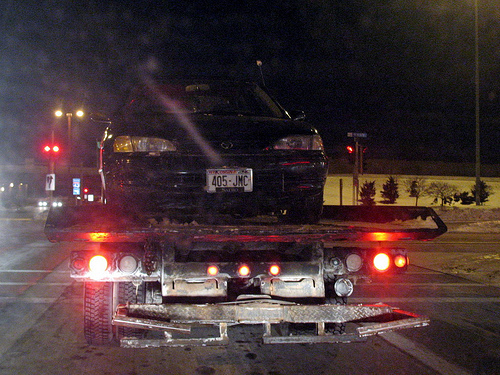car: (84, 62, 344, 230)
